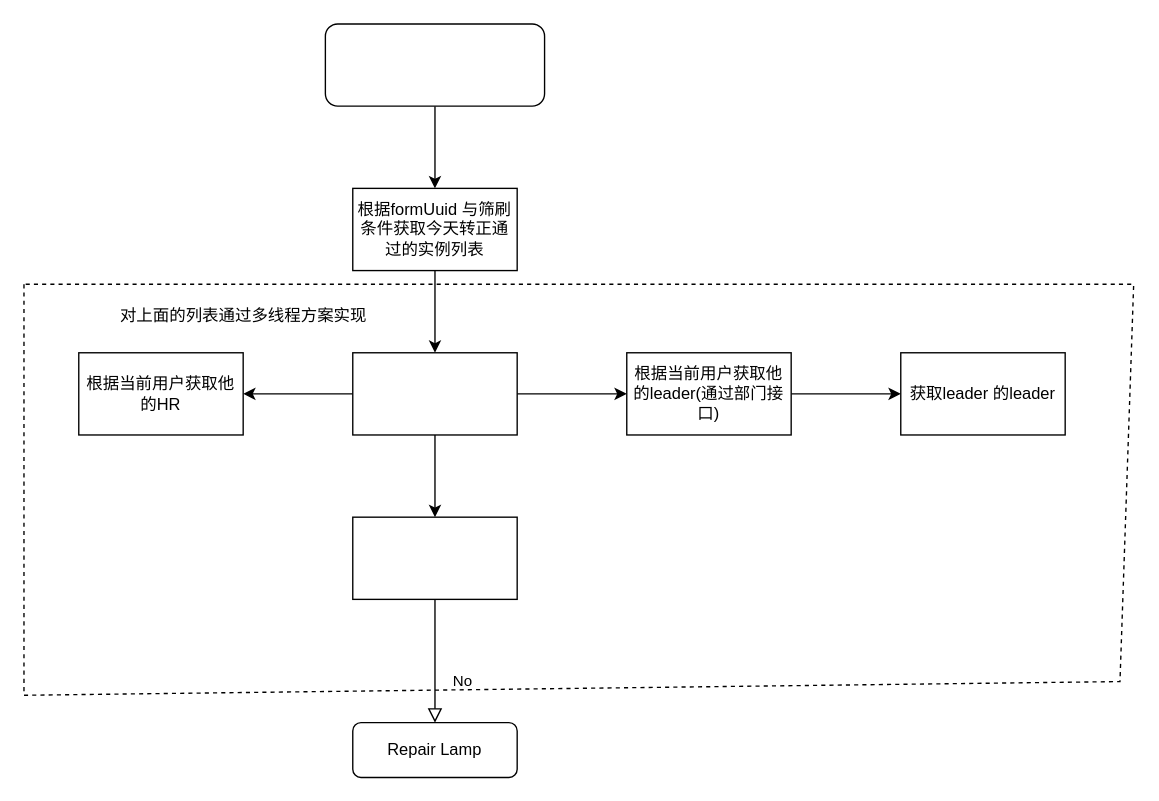
Image size: 1159x801. Some labels were removed from this diagram. Here are the shapes that lost their labels. From the top down, the centre of each, then its label:
At point 434,64: "根据key和secret获取用户access_token".
At point 434,393: "获取当前用户".
At point 434,557: "给上述所有查询的用户发送邮件".
